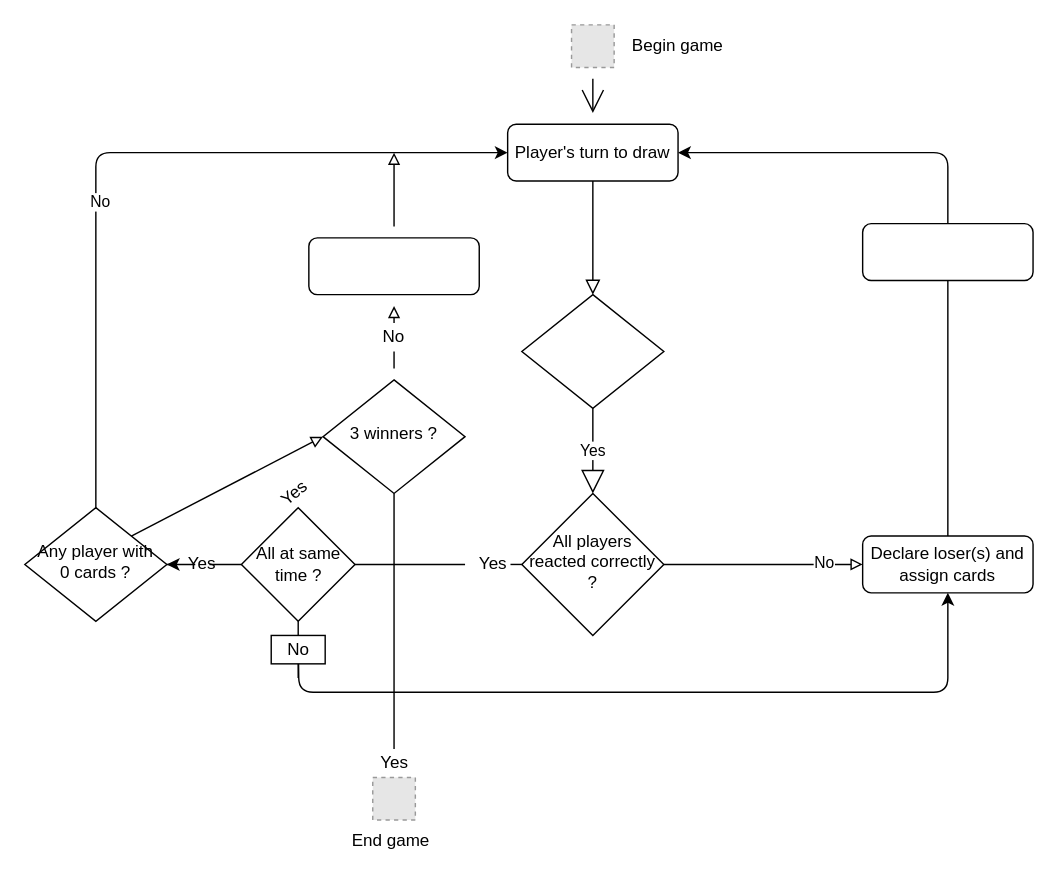
Some shapes in this 1058 by 880 pixel diagram are drawn without their labels. Grey dashed boxes stand in for pictures. Each missing label, with the centre of its shape:
"Card drawn ?" belongs at pixel 592 350.
"Declare winner and continue till another winner" belongs at pixel 393 265.
"Next Players turn" belongs at pixel 947 251.
